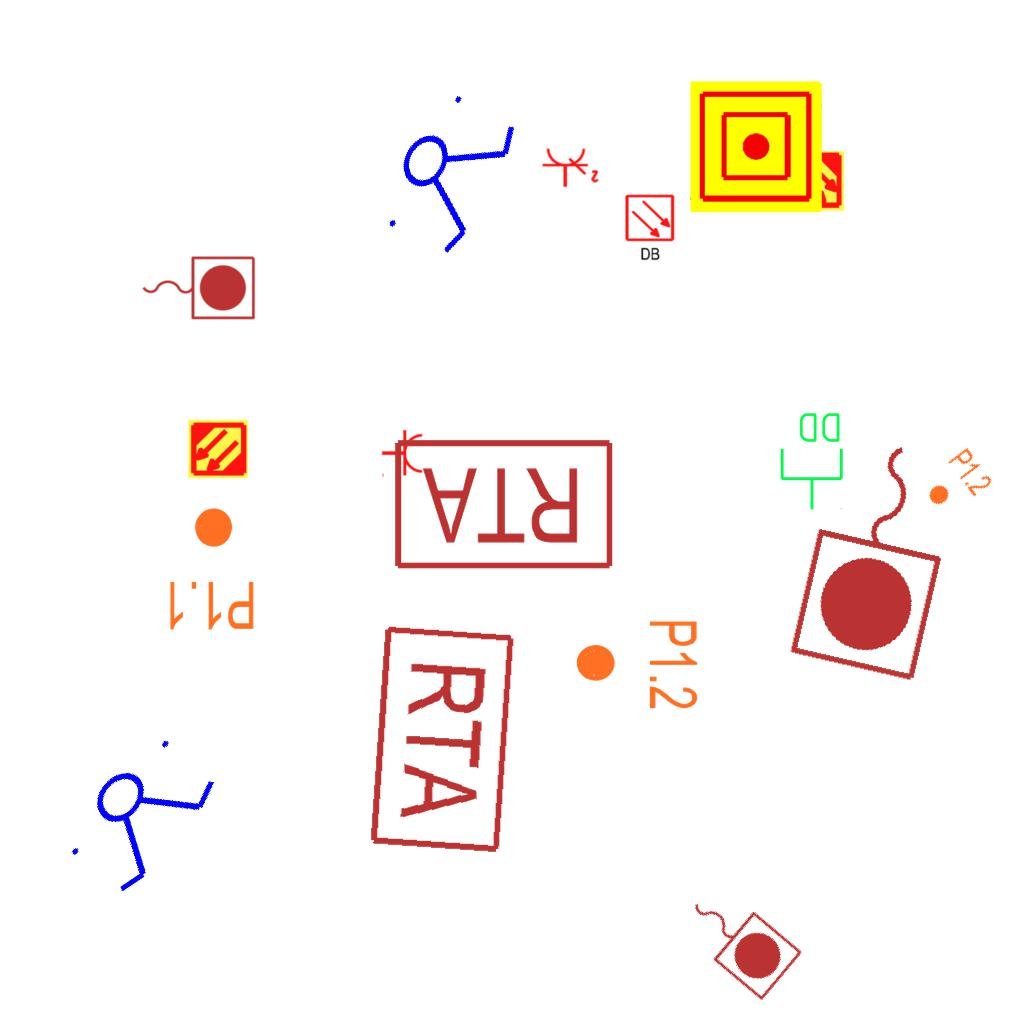ASR_Ansaugrauchmelder: (187, 418, 249, 480), (784, 150, 846, 212)
DB_Melder_in_Doppelboden_mit_Revisionsoeffnung_mind_40_x_40_cm: (622, 191, 679, 265)
Datenanschluss_zweifach: (778, 409, 847, 512)
Downlight_LED_Einbauleuchten_Flur: (573, 618, 701, 711), (916, 445, 996, 521)
Downlight_LED_Einbauleuchten_Flur_2: (164, 505, 257, 633)
NAM-Nichtautomatischer_Melder: (690, 81, 822, 213)
Ruf-und_Abstelltaster: (365, 618, 519, 856), (392, 435, 620, 573)
Schukosteckdose_einfach: (381, 429, 424, 479)
Schukosteckdose_mehrfach: (540, 146, 600, 190)
Serienschalter: (50, 717, 232, 909), (367, 75, 531, 269)
Zugtaster: (781, 420, 977, 692), (669, 872, 809, 1006), (137, 251, 259, 323)
